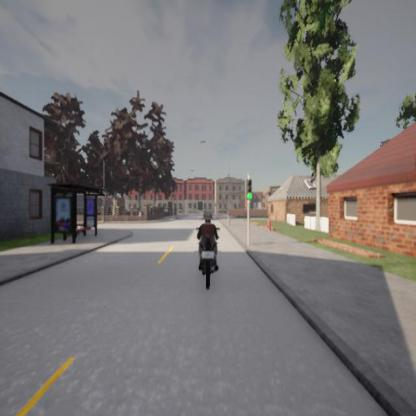motobike: (196, 211, 221, 290)
traffic_light_green: (247, 179, 252, 200)
